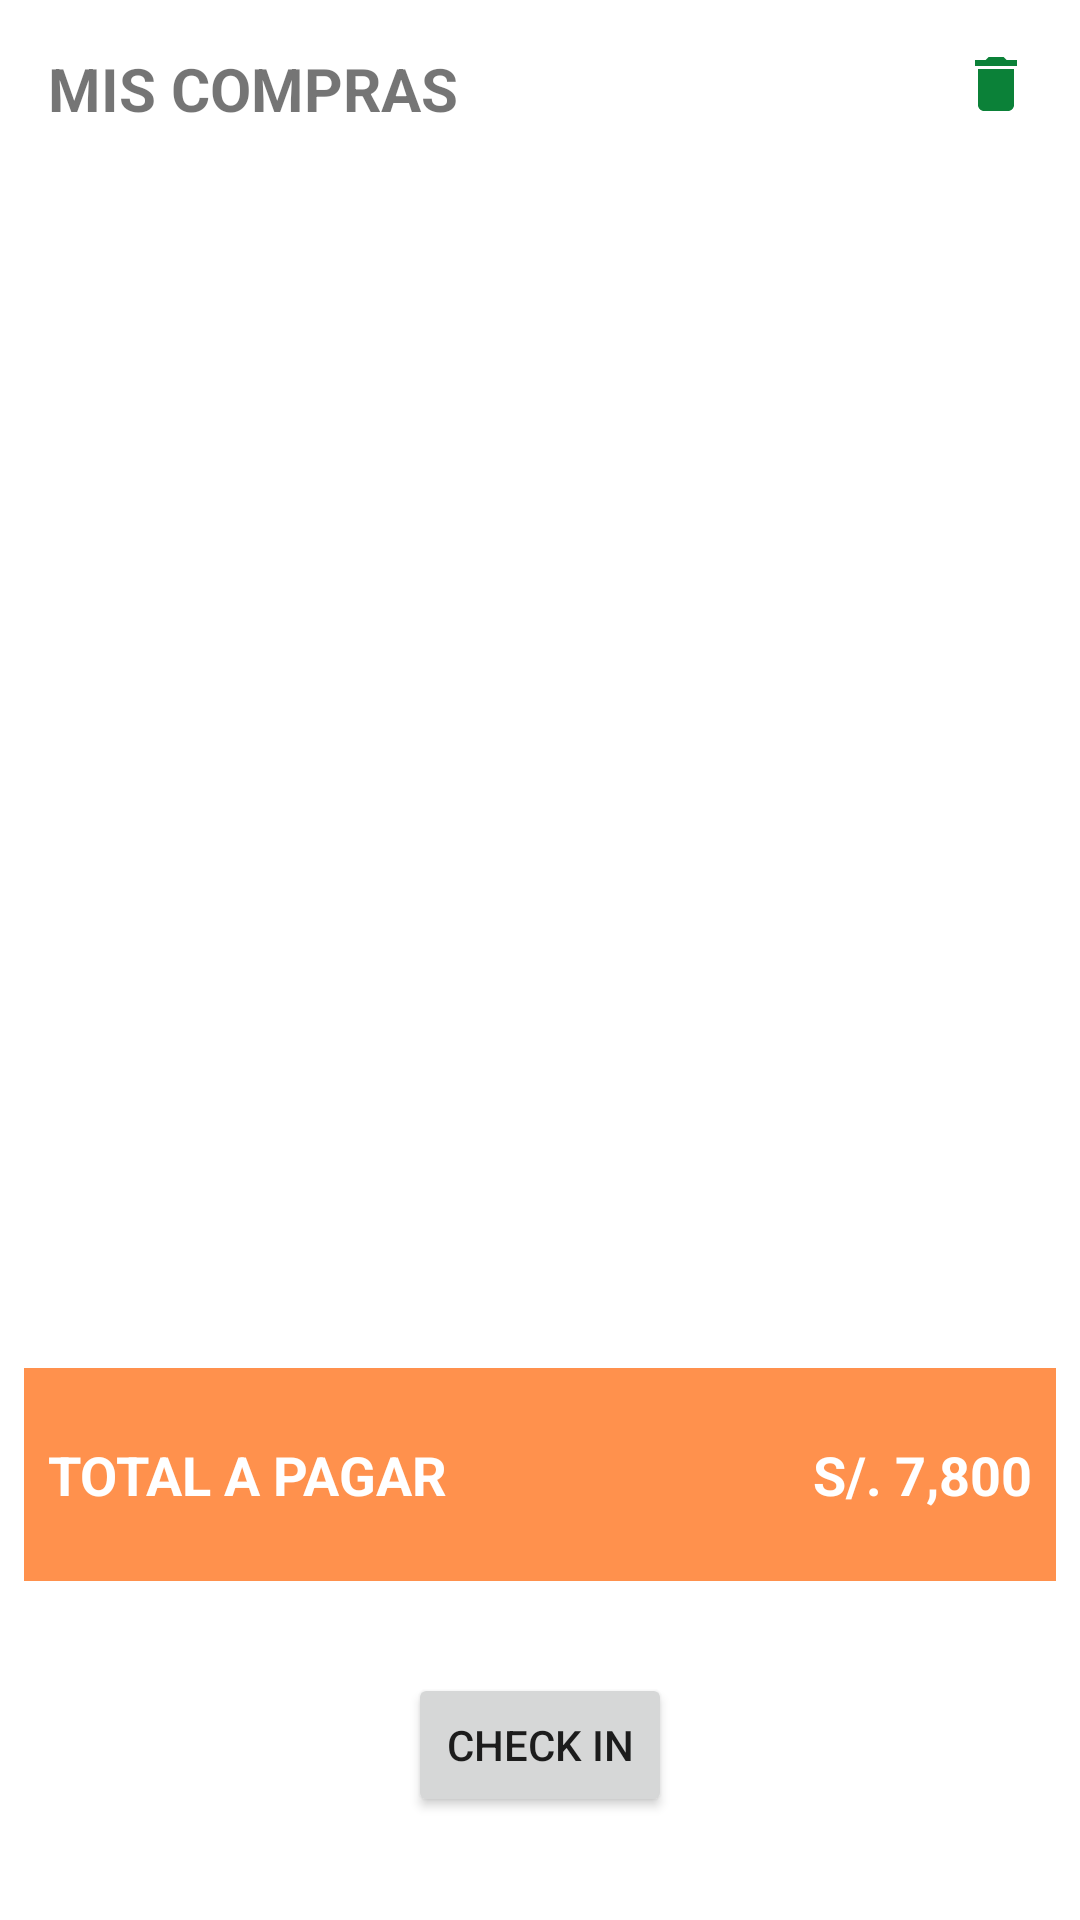

Locate icon controls on the screen. Image size 1080x1920, boxes as (x1, y1, x2, y2).
delete: (975, 57, 1017, 111)
